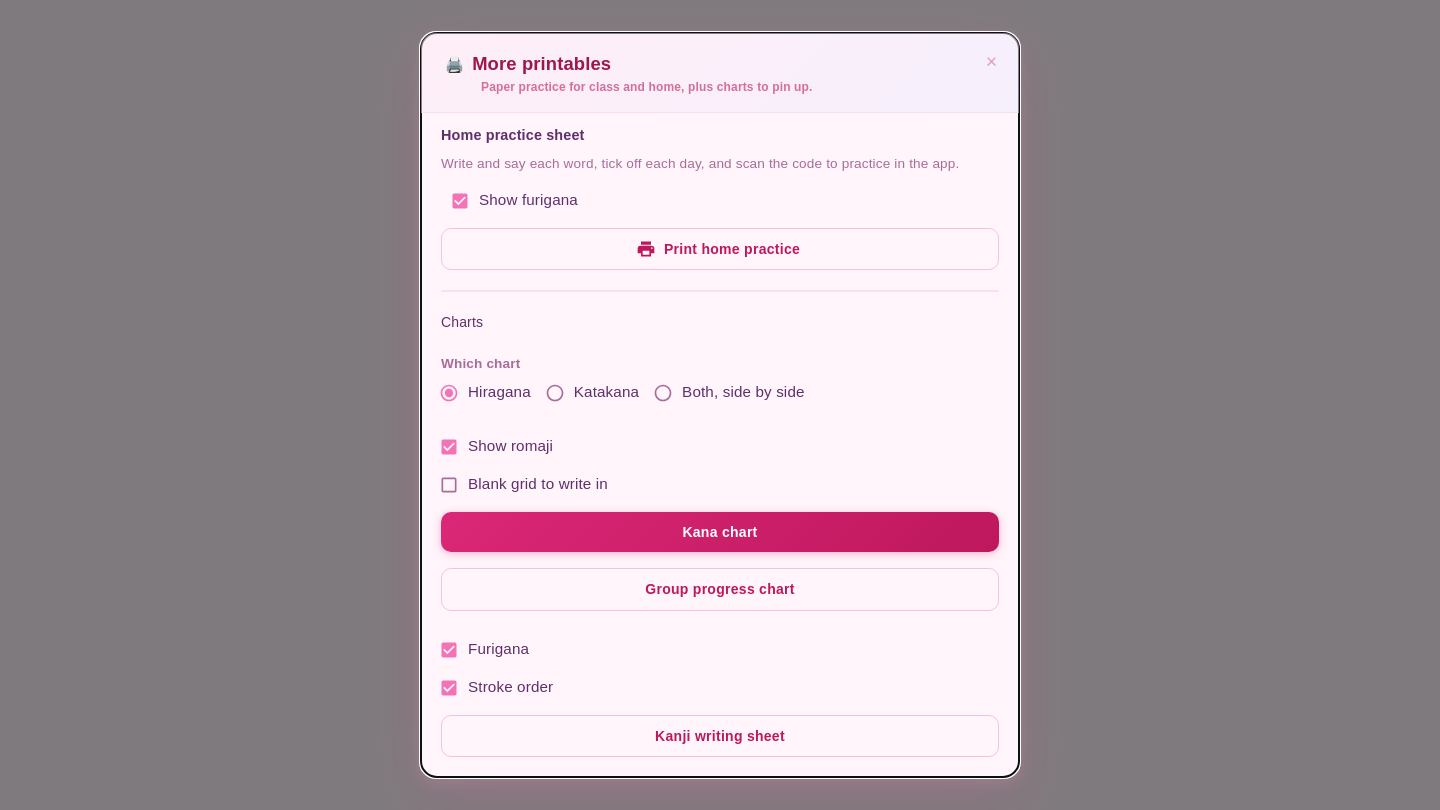
Scenario: ReferenceSheetsDialog › closes the claimed tab and says so when the group has no learners
The image size is (1440, 810).
(page scrolled)
Click the button "Group progress chart" at point(720, 589), box [441,568,999,611]
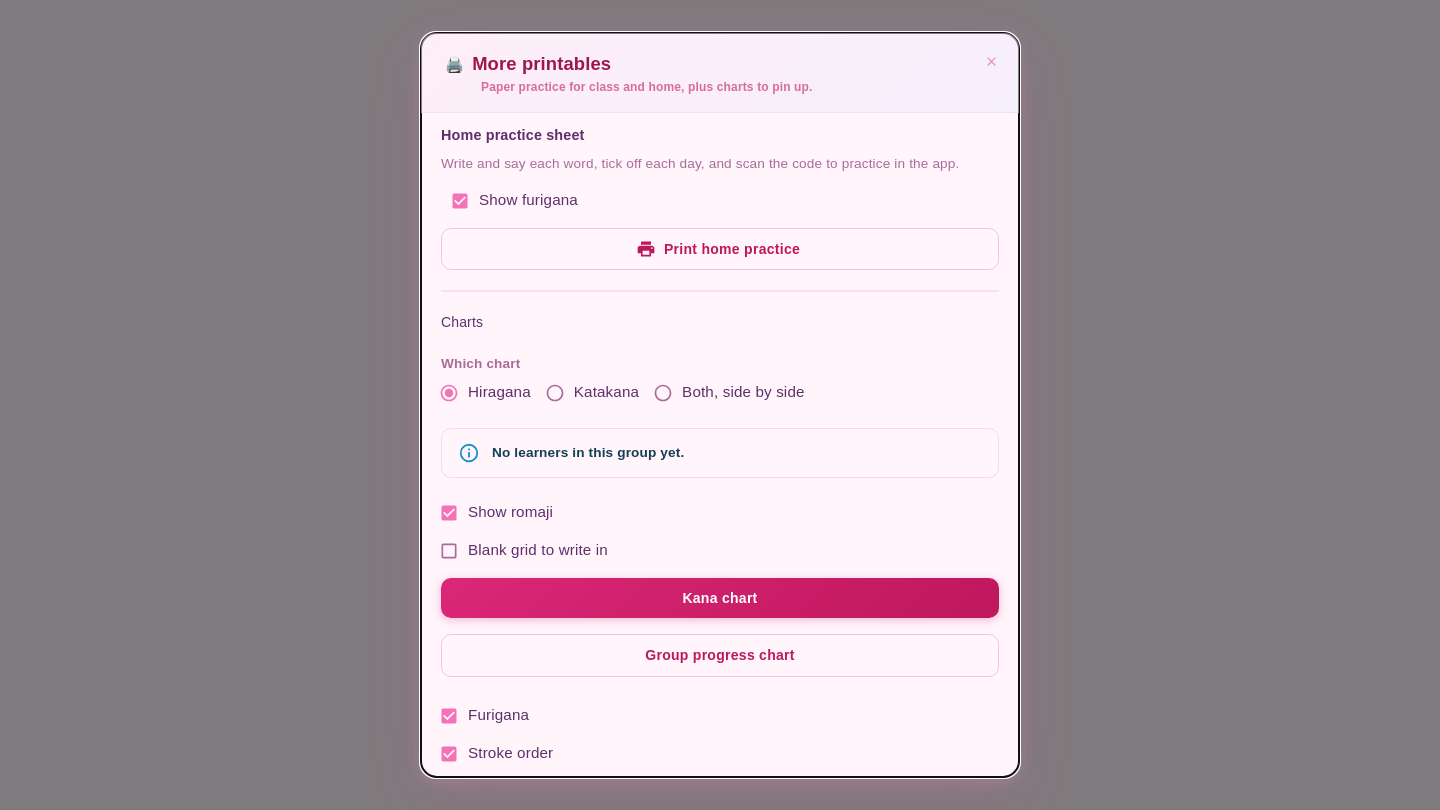
Now the text "No learners in this group yet." is shown, box [492,445,684,460]
